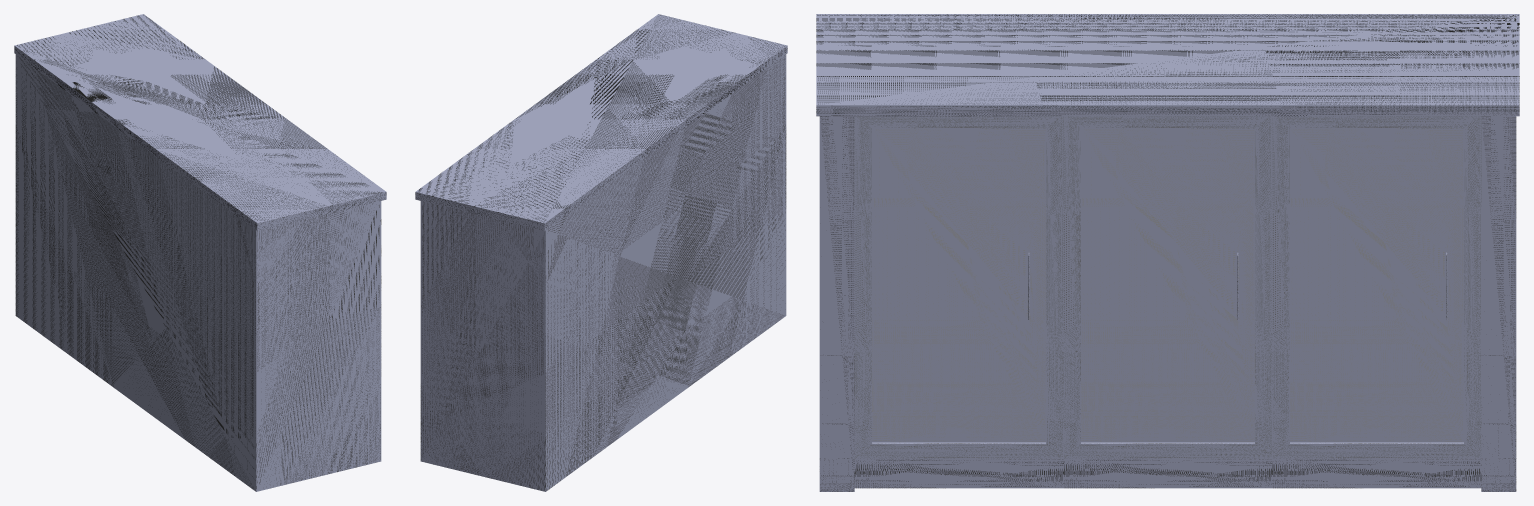
The model's file is cupboard.fbx.
The picture shows the model from 3 angles, left to right: view 1: azimuth 30°, elevation 25°; view 2: azimuth 150°, elevation 25°; view 3: azimuth 270°, elevation 25°; orthographic projection. The views are drawn at different scales.
Parts seen in each view (by area): view 1: Model; view 2: Model; view 3: Model.
Boxes of the visible parts, <box> form: Model: <box>14,14,386,491</box>; Model: <box>415,14,787,491</box>; Model: <box>816,14,1519,491</box>.
Bounding box in the file's own units: 620 × 1235 × 2020.
